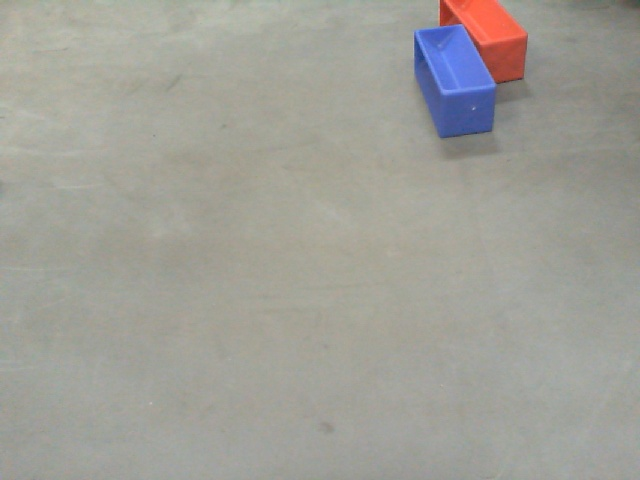BlueSample: (409, 17, 499, 143)
RedSample: (436, 1, 527, 89)
